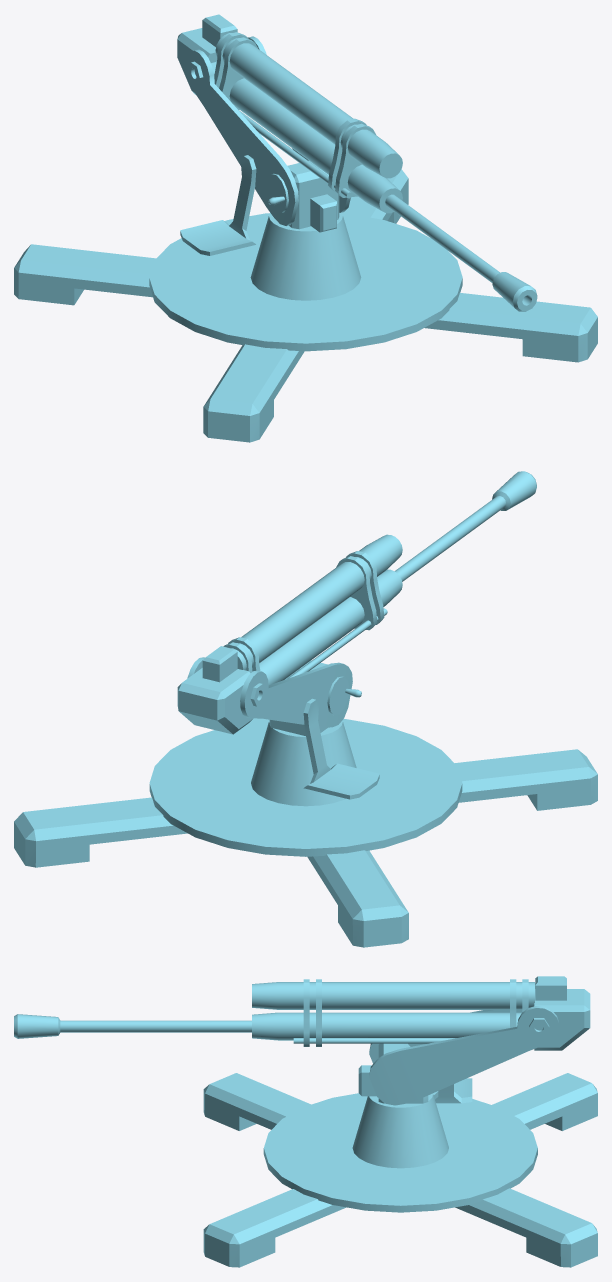
The model's file is Turret.FBX.
3 renders of one model, top to bottom at view 1: azimuth 30°, elevation 25°; view 2: azimuth 150°, elevation 25°; view 3: azimuth 270°, elevation 25°, orthographic. The views are drawn at different scales.
Parts seen in each view (by area): view 1: Cylinder005, Cylinder012, Cylinder006, Cylinder013; view 2: Cylinder005, Cylinder012, Cylinder006, Cylinder013; view 3: Cylinder005, Cylinder012, Cylinder006, Cylinder013.
Part boxes in pixels (x1,y1,x2,y2): Cylinder005: [14, 169, 597, 442]; Cylinder012: [177, 14, 402, 213]; Cylinder006: [180, 36, 350, 255]; Cylinder013: [385, 194, 537, 311]; Cylinder005: [14, 718, 597, 947]; Cylinder012: [177, 534, 402, 734]; Cylinder006: [187, 657, 379, 799]; Cylinder013: [394, 471, 536, 581]; Cylinder005: [203, 1073, 597, 1267]; Cylinder012: [252, 976, 590, 1050]; Cylinder006: [358, 983, 559, 1105]; Cylinder013: [14, 1014, 251, 1038].
Bounding box in the file's own units: 52.56 × 30.14 × 77.83.
